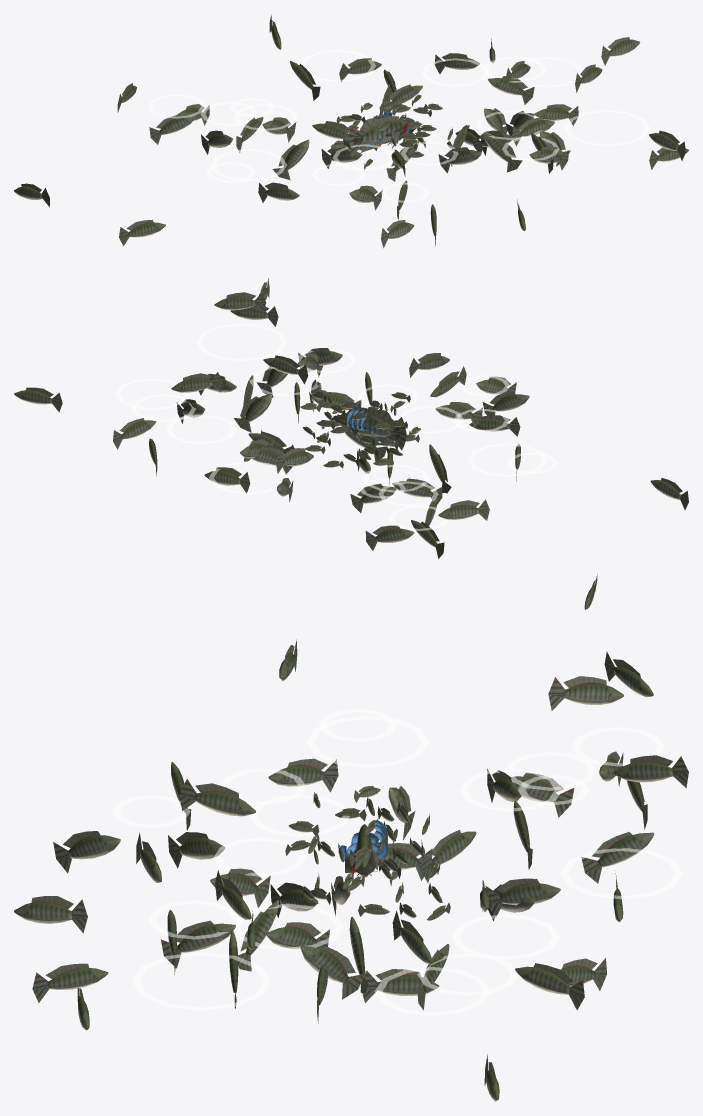
File: fish-BxHBPoYo.glb
3 renders of one model, top to bottom at view 1: azimuth 30°, elevation 25°; view 2: azimuth 150°, elevation 25°; view 3: azimuth 270°, elevation 25°, orthographic. The views are drawn at different scales.
Parts seen in each view (by area): view 1: SCHOOL_feeding, SCHOOL_pond, VAR_gasping, SCHOOL_fingerlings, CLOSE_gills_healthy; view 2: SCHOOL_feeding, SCHOOL_pond, SCHOOL_fingerlings, VAR_gasping, CLOSE_gills_healthy; view 3: SCHOOL_feeding, SCHOOL_pond, SCHOOL_fingerlings, VAR_gasping.
Boxes of the visible parts, x1,y1,x2,y2 form: SCHOOL_feeding: (148, 38, 650, 246); SCHOOL_pond: (14, 15, 688, 248); VAR_gasping: (272, 108, 570, 180); SCHOOL_fingerlings: (330, 94, 469, 170); CLOSE_gills_healthy: (347, 116, 412, 157); SCHOOL_feeding: (113, 323, 557, 558); SCHOOL_pond: (14, 278, 688, 609); SCHOOL_fingerlings: (291, 390, 420, 468); VAR_gasping: (234, 367, 451, 493); CLOSE_gills_healthy: (338, 407, 406, 450); SCHOOL_feeding: (53, 708, 682, 1023); SCHOOL_pond: (14, 639, 688, 1101); SCHOOL_fingerlings: (285, 785, 450, 920); VAR_gasping: (229, 786, 415, 1008).
Bounding box in the file's own units: 2.79 × 0.4899 × 1.73.
Materials: 21 (14 with a texture image).
